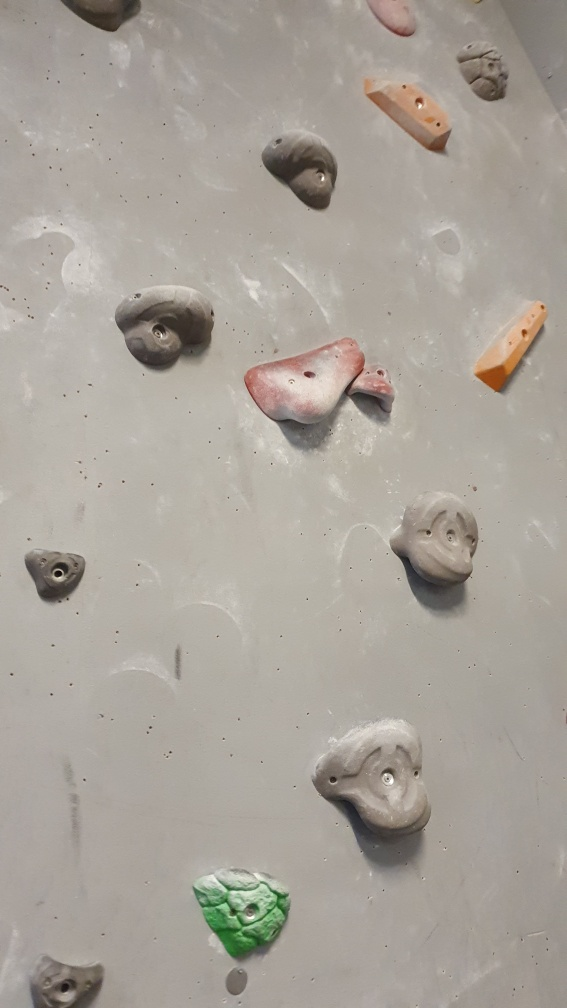Crimp: (20, 542, 88, 613)
Hand Start: (218, 962, 261, 997)
Jug: (308, 715, 435, 839), (114, 282, 220, 377), (381, 489, 480, 590), (262, 126, 339, 210)
Pinch: (467, 295, 548, 398), (362, 74, 453, 153)
